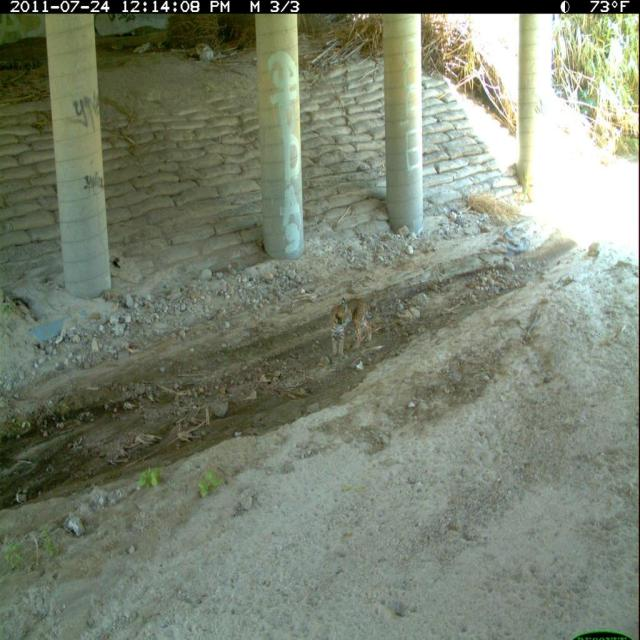bobcat: (327, 294, 377, 364)
